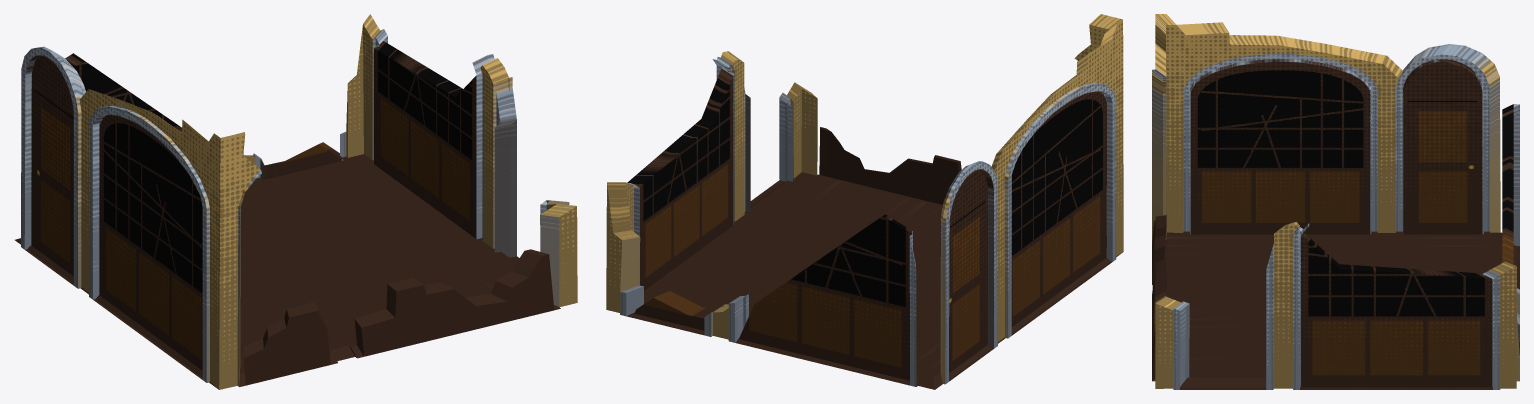
The model's file is Building03A.fbx.
3 views of the same model, side by side, from view 1: azimuth 30°, elevation 25°; view 2: azimuth 150°, elevation 25°; view 3: azimuth 270°, elevation 25° (orthographic). The views are drawn at different scales.
Visible parts, largest first — view 1: Building3A; view 2: Building3A; view 3: Building3A.
Part boxes in pixels (box(x1,y1,x2,y2)): Building3A: box(15, 14, 577, 389); Building3A: box(606, 14, 1123, 389); Building3A: box(1152, 14, 1519, 389).
Bounding box in the file's own units: 1040 × 691 × 1039.
